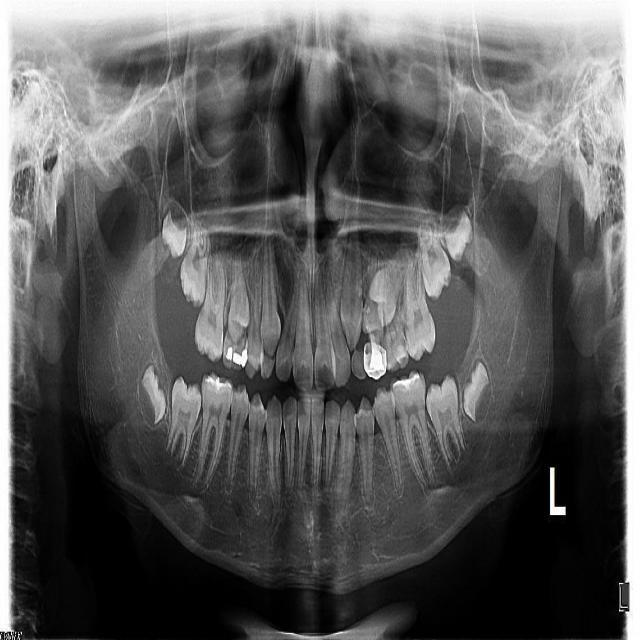NucleOSS Implant: (233, 347, 248, 368), (225, 347, 232, 359)
Straumann Implant: (392, 365, 421, 395), (205, 371, 232, 395)
Zimmer Implant: (363, 343, 387, 379)
